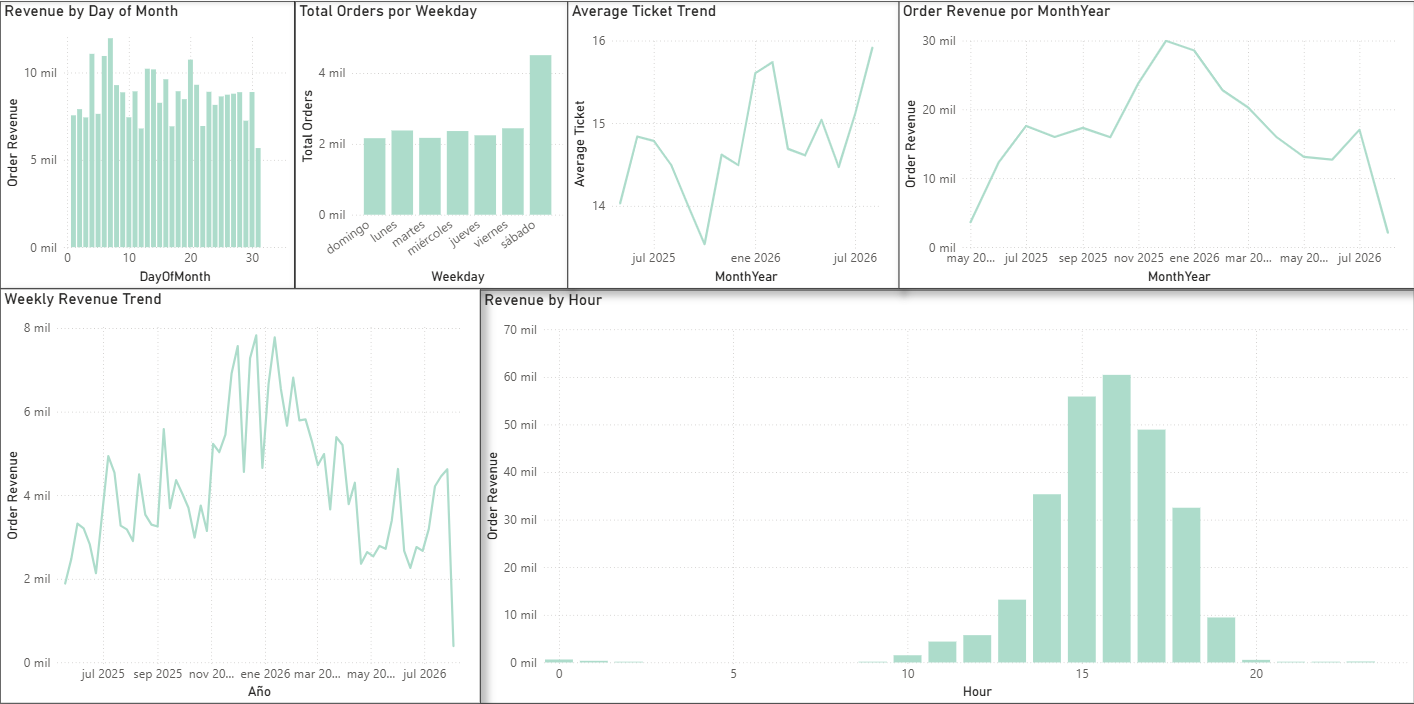

The page's visual inventory and layout, read from the dashboard file:
{"tool":"powerbi","page":{"name":"Sales Performance","canvas":[1920,1080],"ordinal":1},"visuals":[{"type":"columnChart","title":"Revenue by Day of Month","fields":{"Category":["Calendar.DayOfMonth"],"Y":["Calendar.Order Revenue"]},"box":[0,0,400,390],"z":0},{"type":"columnChart","title":"Revenue by Hour","fields":{"Category":["sales_detail.Hour"],"Y":["Calendar.Order Revenue"]},"box":[651.7,391.7,1268.3,561.7],"z":1000},{"type":"columnChart","fields":{"Category":["Calendar.Weekday"],"Y":["Calendar.Total Orders"]},"box":[400,0,370,390],"z":2000},{"type":"lineChart","title":"Average Ticket Trend","fields":{"Category":["Calendar.MonthYear"],"Y":["Calendar.Average Ticket"]},"box":[770,0,450,390],"z":3000},{"type":"lineChart","fields":{"Category":["Calendar.MonthYear"],"Y":["Calendar.Order Revenue"]},"box":[1220,0,700,390],"z":3001},{"type":"lineChart","title":"Weekly Revenue Trend","fields":{"Category":["Calendar.WeekStartDate.Variación.Jerarquía de fechas.Año","Calendar.WeekStartDate.Variación.Jerarquía de fechas.Trimestre","Calendar.WeekStartDate.Variación.Jerarquía de fechas.Mes","Calendar.WeekStartDate.Variación.Jerarquía de fechas.Día"],"Y":["Calendar.Order Revenue"]},"box":[0,390,651.7,563.3],"z":3002}]}

Visuals, with their boxes on the page's 1920x1080 design canvas (x1, y1, x2, y2). These are canvas units, not pixel positions in the 1414x704 screenshot, which may show the page scaled, cropped or inside an application window:
"Revenue by Day of Month" columnChart: [0, 0, 400, 390]
"Revenue by Hour" columnChart: [652, 392, 1920, 953]
columnChart - Calendar.Weekday x Calendar.Total Orders: [400, 0, 770, 390]
"Average Ticket Trend" lineChart: [770, 0, 1220, 390]
lineChart - Calendar.MonthYear x Calendar.Order Revenue: [1220, 0, 1920, 390]
"Weekly Revenue Trend" lineChart: [0, 390, 652, 953]
